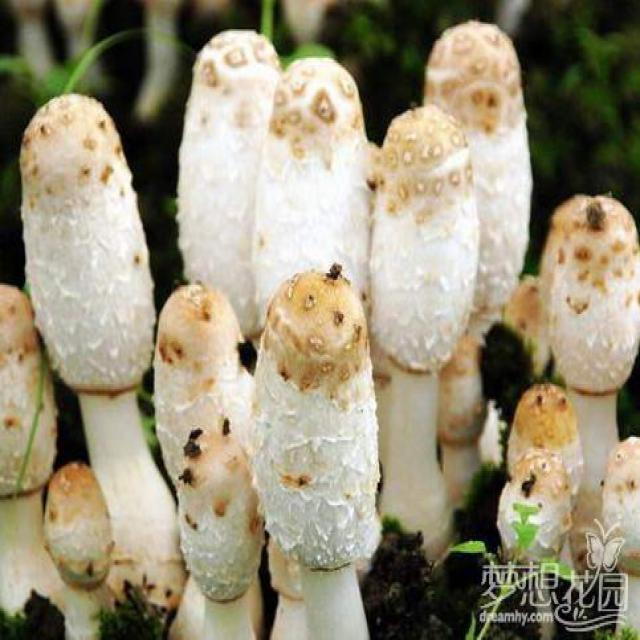Coprinus comatus: (21, 96, 182, 599), (423, 19, 530, 489), (371, 107, 481, 547), (251, 268, 380, 635), (156, 290, 261, 637), (177, 29, 285, 335), (252, 57, 371, 323), (549, 197, 639, 484), (496, 450, 568, 640), (46, 460, 117, 633), (601, 439, 640, 635)
